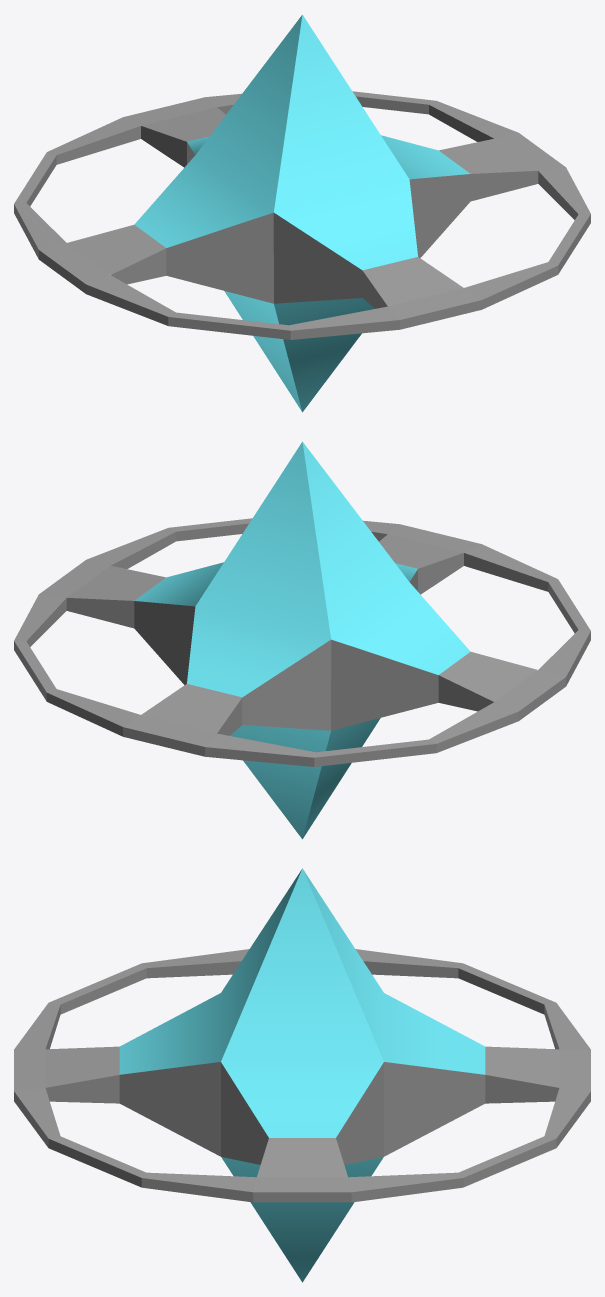
The model's file is MainModel 1.fbx.
3 views of the same model, one above another, from view 1: azimuth 30°, elevation 25°; view 2: azimuth 150°, elevation 25°; view 3: azimuth 270°, elevation 25° (orthographic). The views are drawn at different scales.
Parts seen in each view (by area): view 1: Pyramid001; view 2: Pyramid001; view 3: Pyramid001.
Boxes of the visible parts, bbox=[...] form: Pyramid001: bbox=[14, 14, 590, 412]; Pyramid001: bbox=[14, 441, 590, 839]; Pyramid001: bbox=[14, 868, 590, 1282].
Bounding box in the file's own units: 58.01 × 45.98 × 58.01.
Materials: 2 (2 with a texture image).
